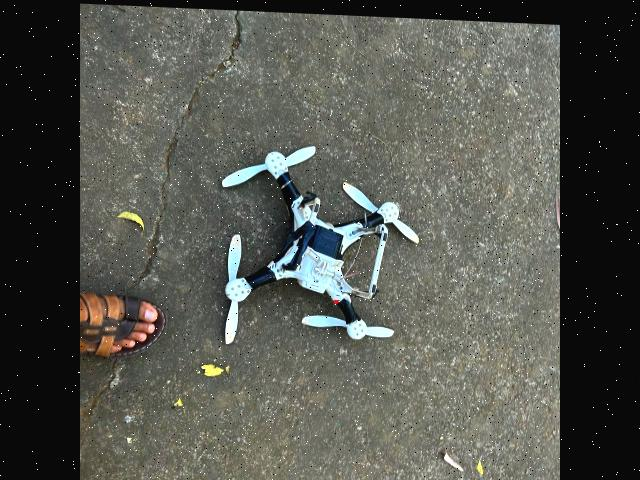drone: (186, 40, 448, 444)
